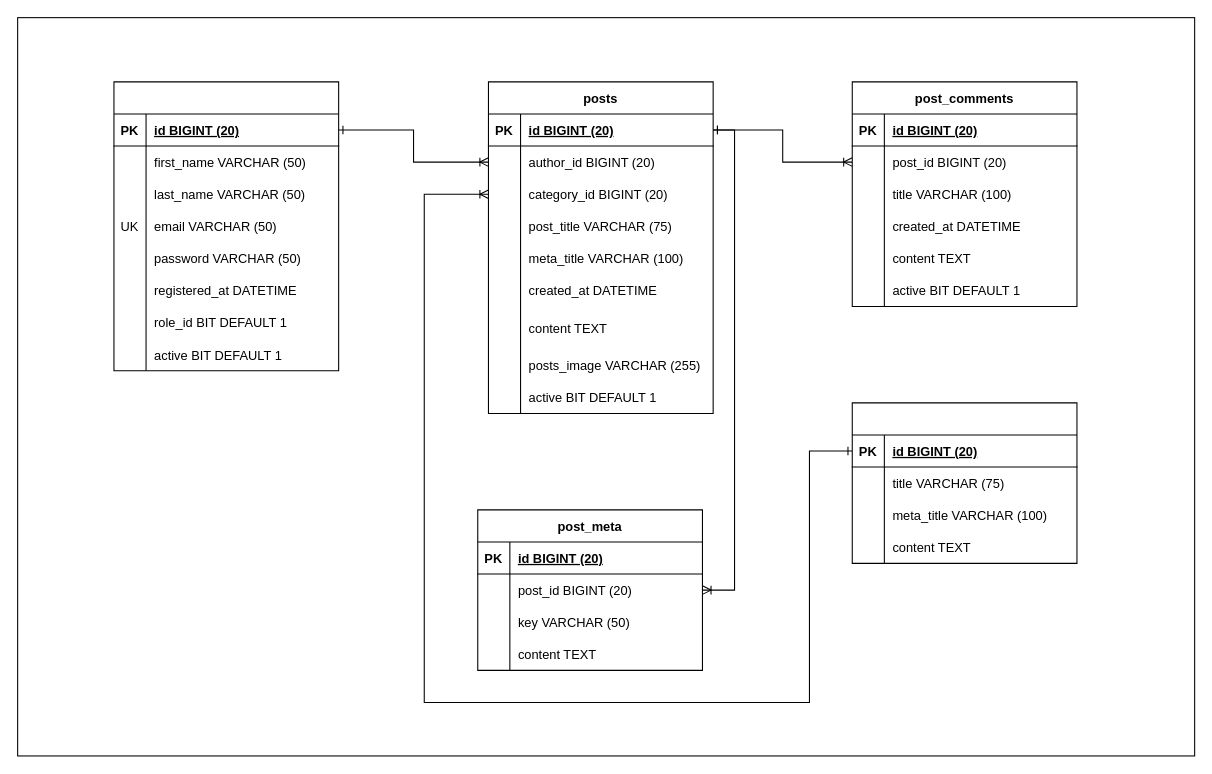
Some shapes in this 1212 by 774 pixel diagram are drawn without their labels. The shapes that lost their labels are listed below. From the top down, each one's box as (x1, y1, x2, y2) in pixels, then its label:
(113, 81, 339, 371): users
(851, 402, 1077, 563): category
